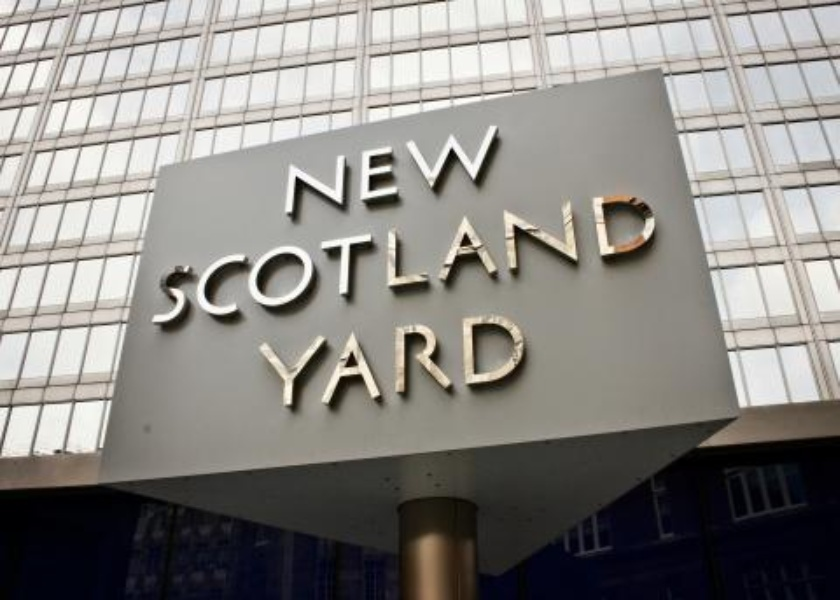text: (161, 184, 176, 326), (177, 184, 192, 326), (193, 184, 208, 326), (209, 184, 224, 326), (225, 184, 240, 326), (241, 184, 256, 326), (257, 184, 272, 326), (273, 184, 288, 326), (289, 184, 304, 326), (305, 184, 320, 326), (321, 184, 336, 326), (337, 184, 352, 326), (353, 184, 368, 326), (369, 184, 384, 326), (385, 184, 400, 326), (401, 184, 416, 326), (417, 184, 432, 326), (433, 184, 448, 326), (449, 184, 464, 326), (465, 184, 480, 326), (481, 184, 496, 326), (497, 184, 512, 326), (513, 184, 528, 326), (529, 184, 544, 326), (545, 184, 560, 326), (561, 184, 576, 326), (577, 184, 592, 326), (593, 184, 608, 326), (609, 184, 624, 326), (625, 184, 640, 326), (641, 184, 656, 326), (513, 308, 529, 410), (257, 308, 272, 410), (273, 308, 288, 410), (289, 308, 304, 410), (305, 308, 320, 410), (321, 308, 336, 410), (337, 308, 352, 410), (353, 308, 368, 410), (369, 308, 384, 410), (385, 308, 400, 410), (401, 308, 416, 410), (417, 308, 432, 410), (433, 308, 448, 410), (449, 308, 464, 410), (465, 308, 480, 410), (481, 308, 496, 410), (497, 308, 512, 410), (289, 121, 304, 216), (305, 121, 320, 216), (321, 121, 336, 216), (337, 121, 352, 216), (353, 121, 368, 216), (369, 121, 384, 216), (385, 121, 400, 216), (401, 121, 416, 216), (417, 121, 432, 216), (433, 121, 448, 216), (449, 121, 464, 216), (465, 121, 480, 216), (481, 121, 496, 216), (657, 184, 667, 326), (155, 184, 160, 326), (497, 121, 501, 216), (254, 308, 256, 410), (286, 121, 288, 216)
